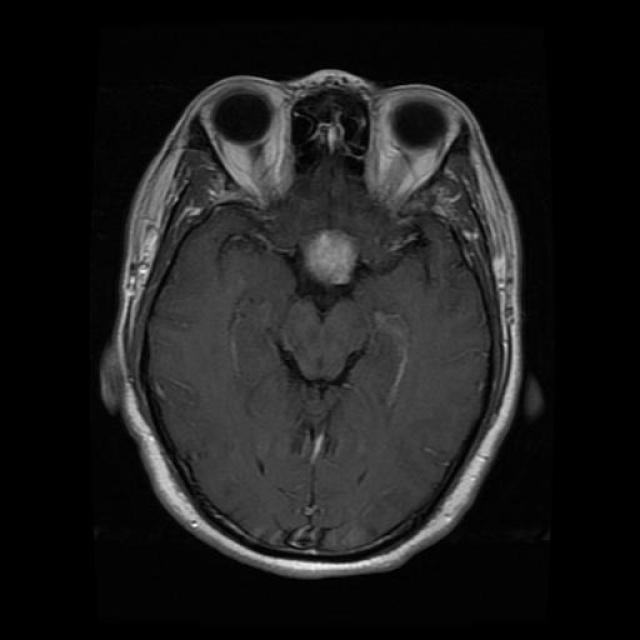Brain-Tumor: (294, 222, 368, 296)
eye: (188, 68, 308, 216), (358, 74, 468, 217)
